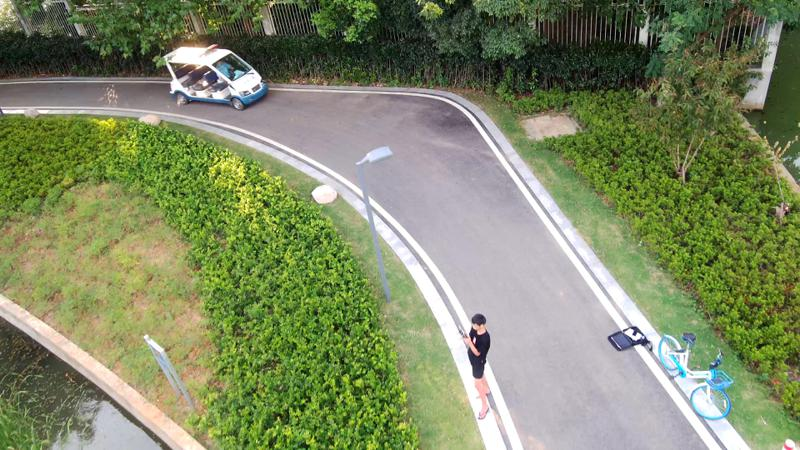passerby: (462, 312, 492, 421)
